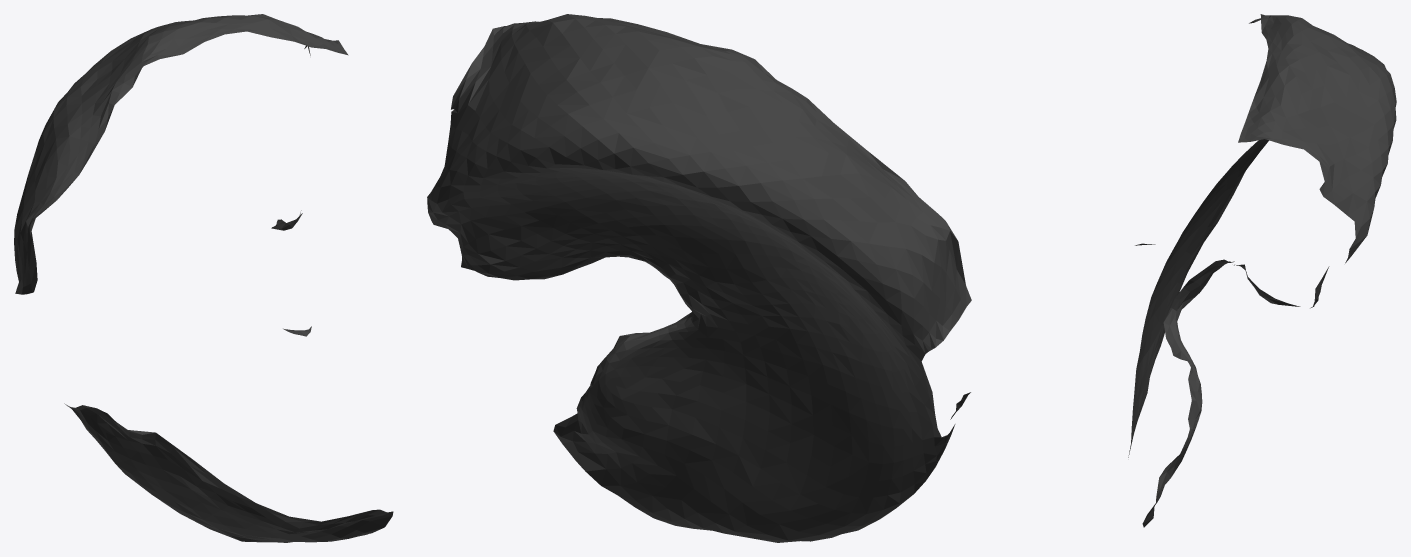
The model's file is meniscus_medial_e.glb.
The picture shows the model from 3 angles, left to right: view 1: azimuth 30°, elevation 25°; view 2: azimuth 150°, elevation 25°; view 3: azimuth 270°, elevation 25°; orthographic projection. The views are drawn at different scales.
Parts seen in each view (by area): view 1: meniscus_medial_e; view 2: meniscus_medial_e; view 3: meniscus_medial_e.
Boxes of the visible parts, x1=… form: meniscus_medial_e: x1=14, y1=14, x2=393, y2=542; meniscus_medial_e: x1=427, y1=14, x2=971, y2=542; meniscus_medial_e: x1=1128, y1=14, x2=1396, y2=527.
Size of the model in its own units: 0.00314 by 0.00396 by 0.00295.
1 material, 1 textured.
